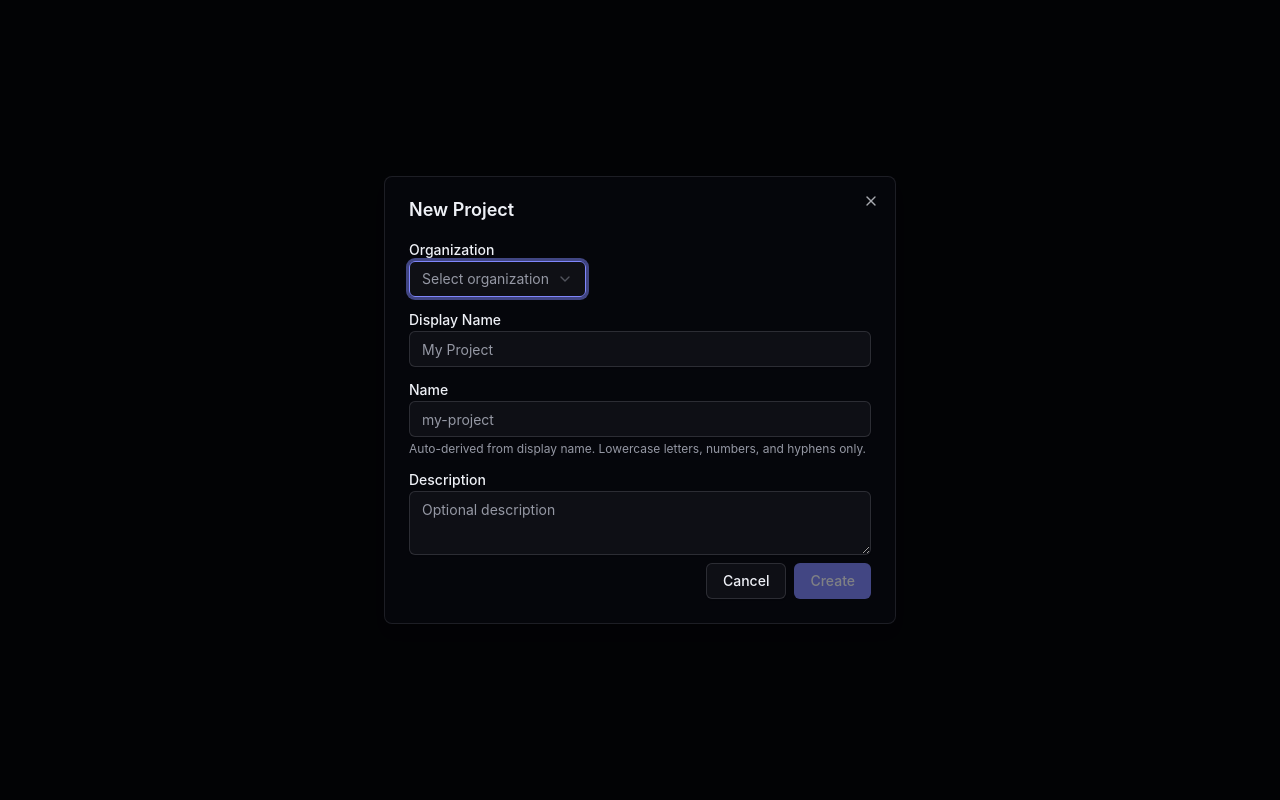
CreateProjectDialog › auto-derives name from display name as user types
Type "Test Project" into the field with placeholder "My Project". click: (640, 349)
box: left=409, top=331, right=871, bottom=367
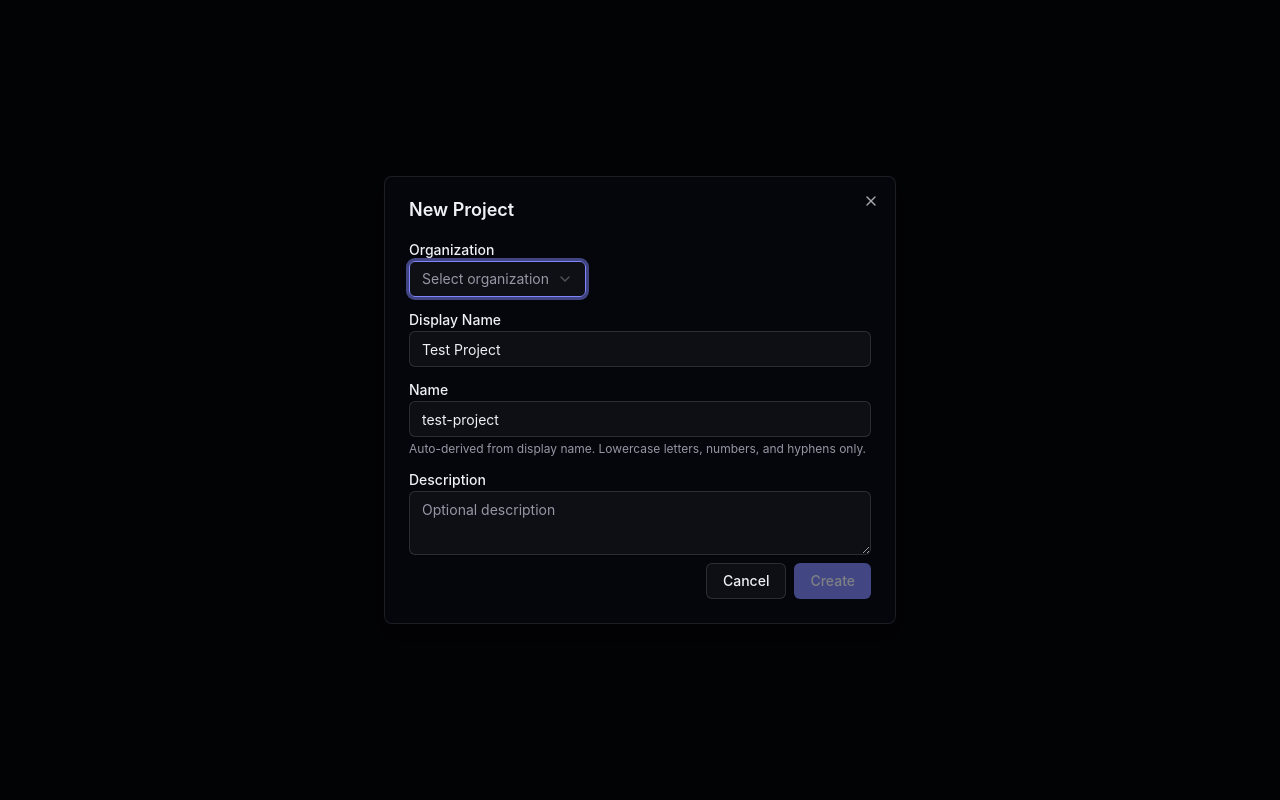
Expected: the field with placeholder "my-project" holds "test-project", left=409, top=401, right=871, bottom=437
